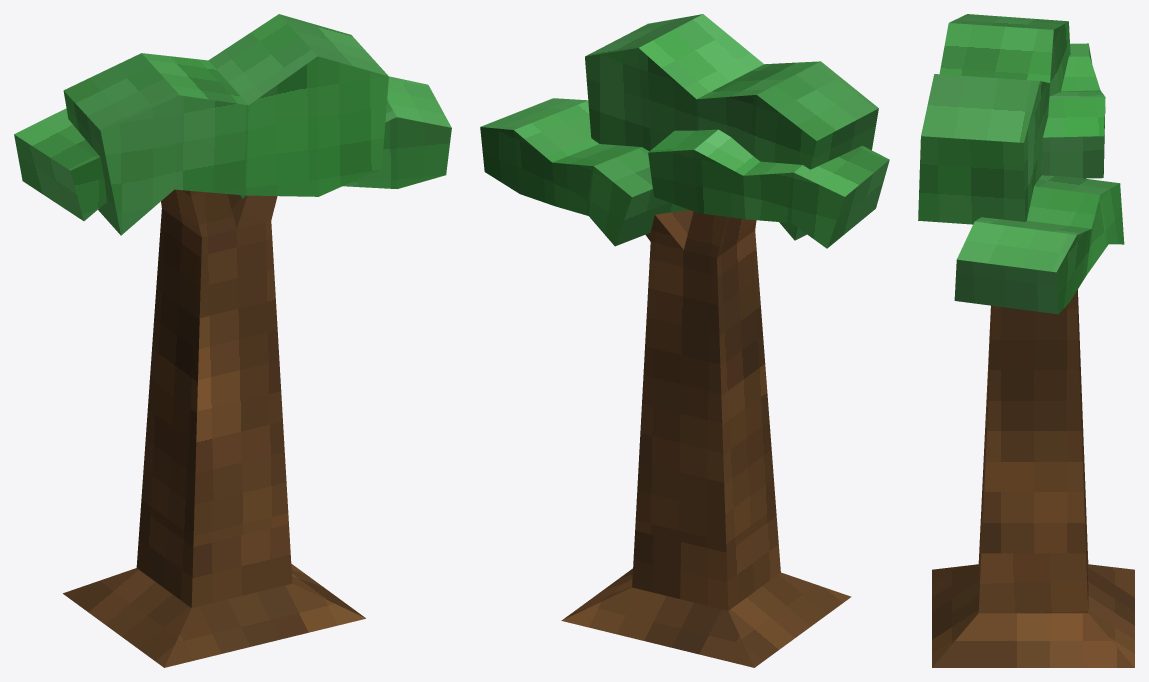
Rendered from Tree.fbx.
3 renders of one model, left to right at view 1: azimuth 30°, elevation 25°; view 2: azimuth 150°, elevation 25°; view 3: azimuth 270°, elevation 25°, orthographic. The views are drawn at different scales.
Visible parts, largest first — view 1: Leaves_2, upper thingie, Stump, Leaves, Leaves_1; view 2: upper thingie, Leaves_2, Stump, Leaves_1, Leaves; view 3: Leaves_2, upper thingie, Stump, Leaves, Leaves_1.
Boxes of the visible parts, <box> form: Leaves_2: <box>63,14,388,235</box>; upper thingie: <box>140,189,288,547</box>; Stump: <box>63,509,365,667</box>; Leaves: <box>240,76,451,198</box>; Leaves_1: <box>14,108,106,220</box>; upper thingie: <box>635,210,776,552</box>; Leaves_2: <box>585,14,878,240</box>; Stump: <box>561,516,851,667</box>; Leaves_1: <box>648,129,889,248</box>; Leaves: <box>480,98,688,246</box>; Leaves_2: <box>918,14,1070,224</box>; upper thingie: <box>981,289,1085,553</box>; Stump: <box>932,507,1134,667</box>; Leaves: <box>954,175,1124,314</box>; Leaves_1: <box>1041,43,1105,178</box>.
Size of the model in its own units: 86.09 by 118 by 40.76.
1 material, 1 textured.
